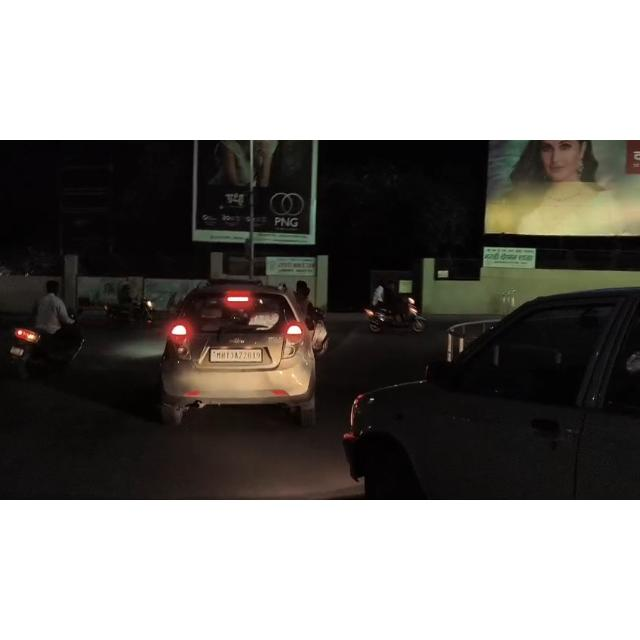car: (341, 265, 640, 500), (158, 270, 329, 434)
